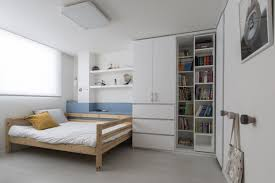Bed: (3, 108, 134, 173)
Closet: (133, 38, 178, 152)
